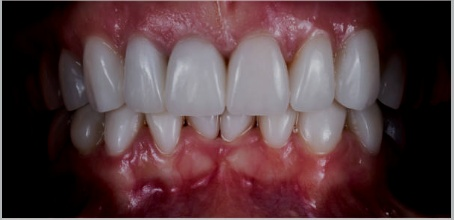Gingivitis: (113, 165, 306, 216)
